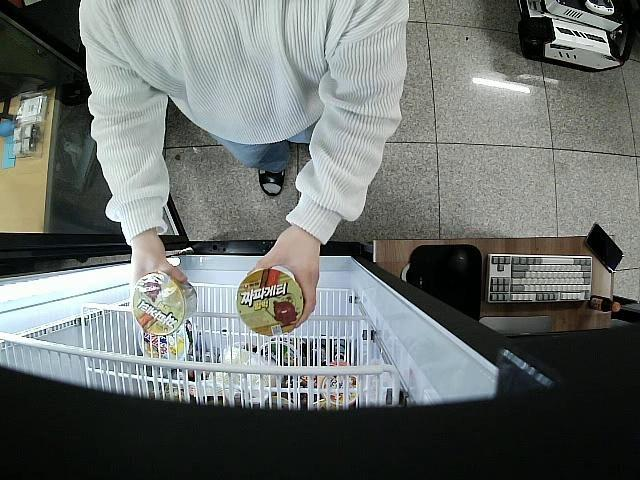04_chapagetti_S: (235, 268, 306, 336), (131, 270, 198, 335)
